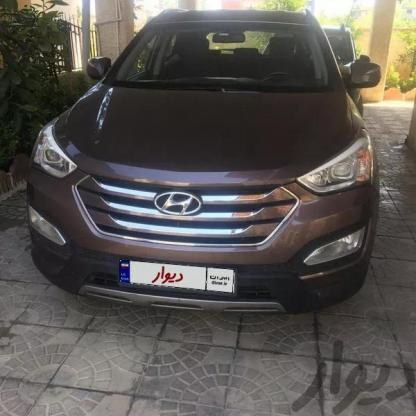Car: (19, 0, 380, 338)
